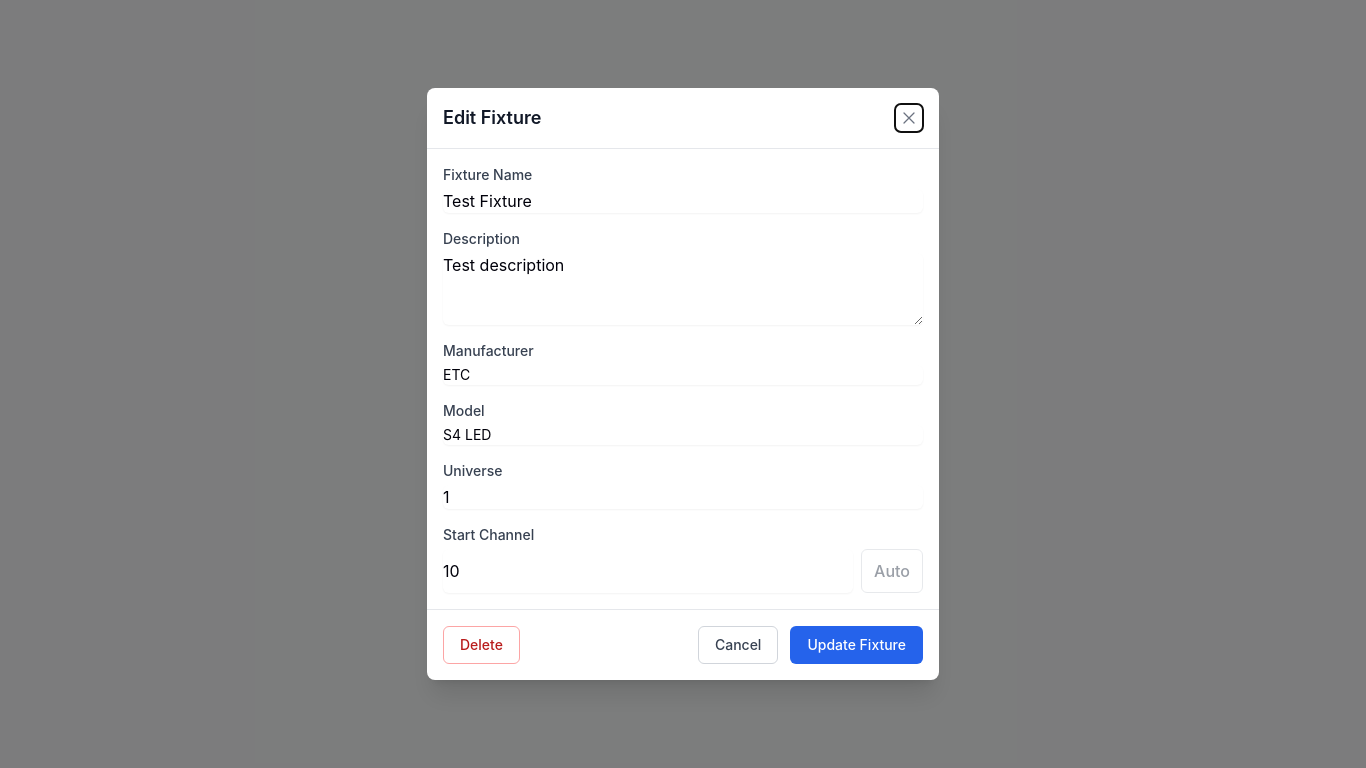
Test: EditFixtureModal › modal actions › allows canceling delete confirmation
Click the button "Delete".
click(481, 645)  # box [443,626,520,664]
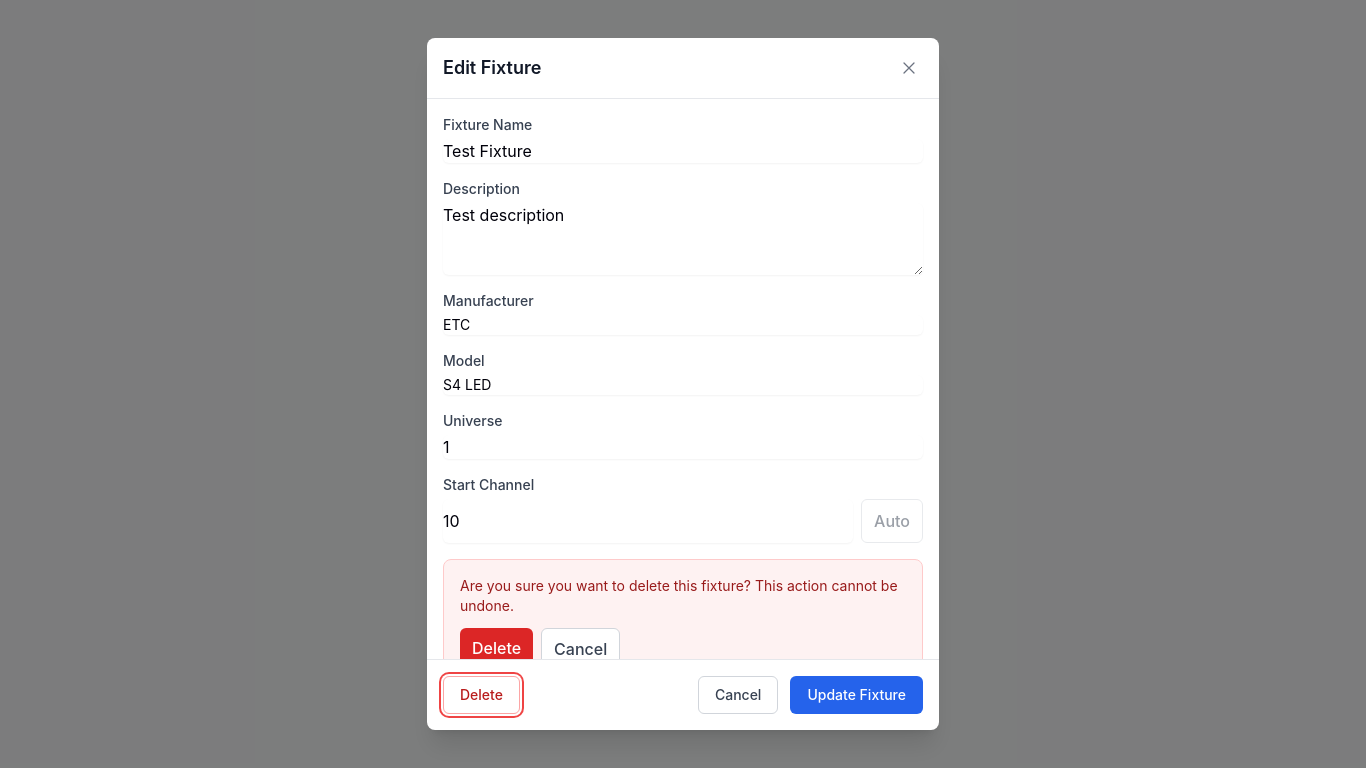
Click the button "Cancel" below "Start Channel".
click(581, 650)  # box [541,628,620,672]
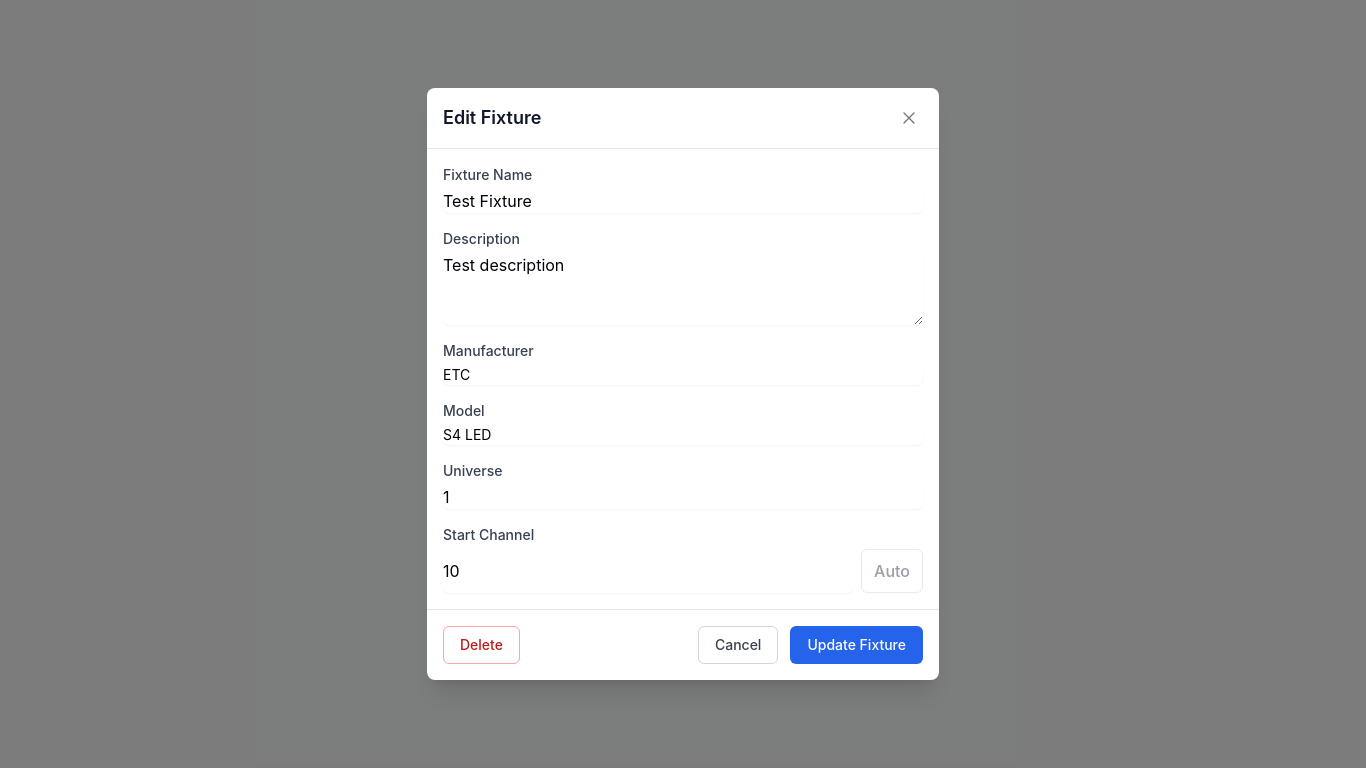
Expected: the text "Are you sure you want to delete this fixture?" is gone
